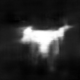plane: (17, 22, 76, 61)
